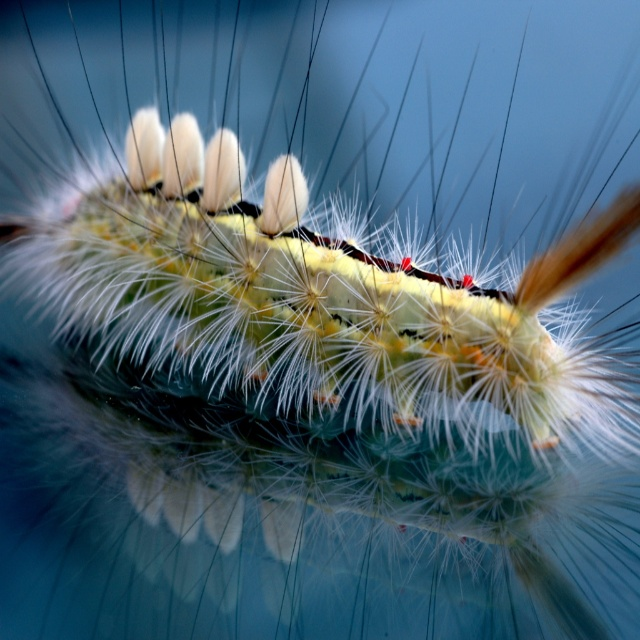Caterpillar: (1, 0, 640, 461)
